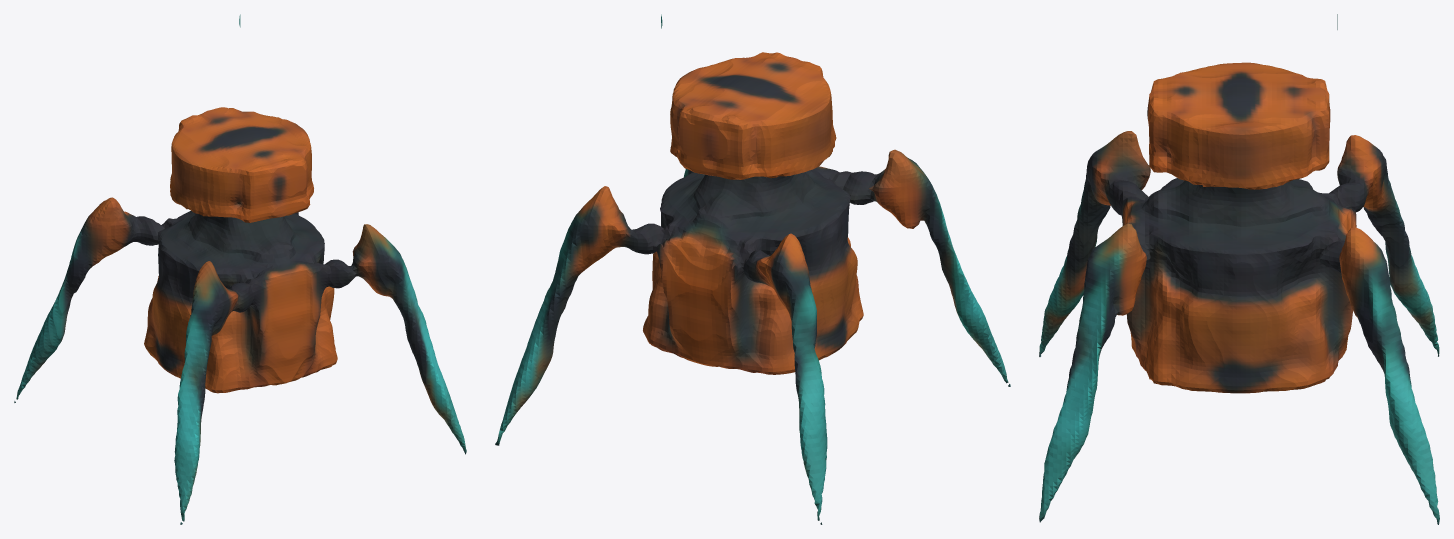
3 renders of one model, left to right at view 1: azimuth 30°, elevation 25°; view 2: azimuth 150°, elevation 25°; view 3: azimuth 270°, elevation 25°, orthographic. The views are drawn at different scales.
Parts seen in each view (by area): view 1: tmp2n_s7boj.ply; view 2: tmp2n_s7boj.ply; view 3: tmp2n_s7boj.ply.
Part boxes in pixels (x1=…): tmp2n_s7boj.ply: x1=14, y1=14, x2=466, y2=524; tmp2n_s7boj.ply: x1=495, y1=14, x2=1010, y2=524; tmp2n_s7boj.ply: x1=1039, y1=14, x2=1439, y2=524.
Bounding box in the file's own units: 1.42 × 1.76 × 1.42.
